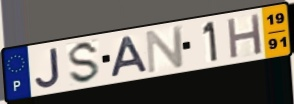1: (201, 20, 220, 64)
A: (109, 34, 150, 79)
H: (225, 12, 264, 61)
J: (34, 46, 63, 90)
N: (144, 23, 187, 75)
S: (67, 39, 102, 86)
